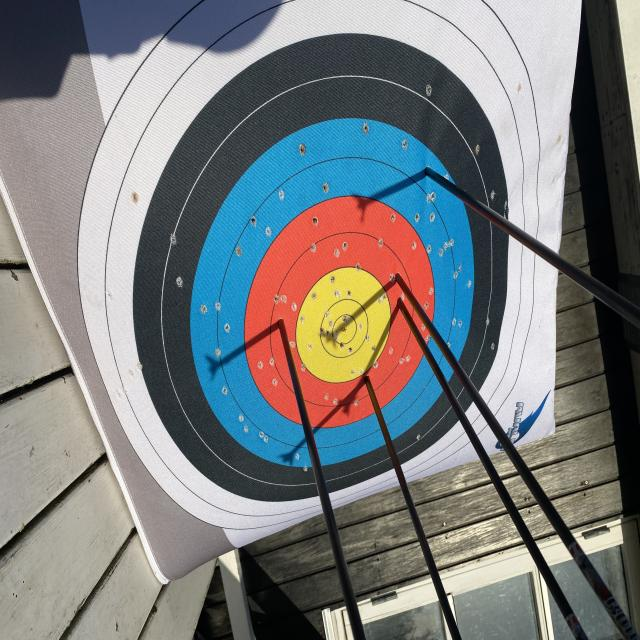Arrow_Blue: (398, 154, 444, 206)
Arrow_Red: (269, 302, 301, 352), (382, 296, 421, 334), (351, 358, 383, 401), (381, 256, 412, 296)
